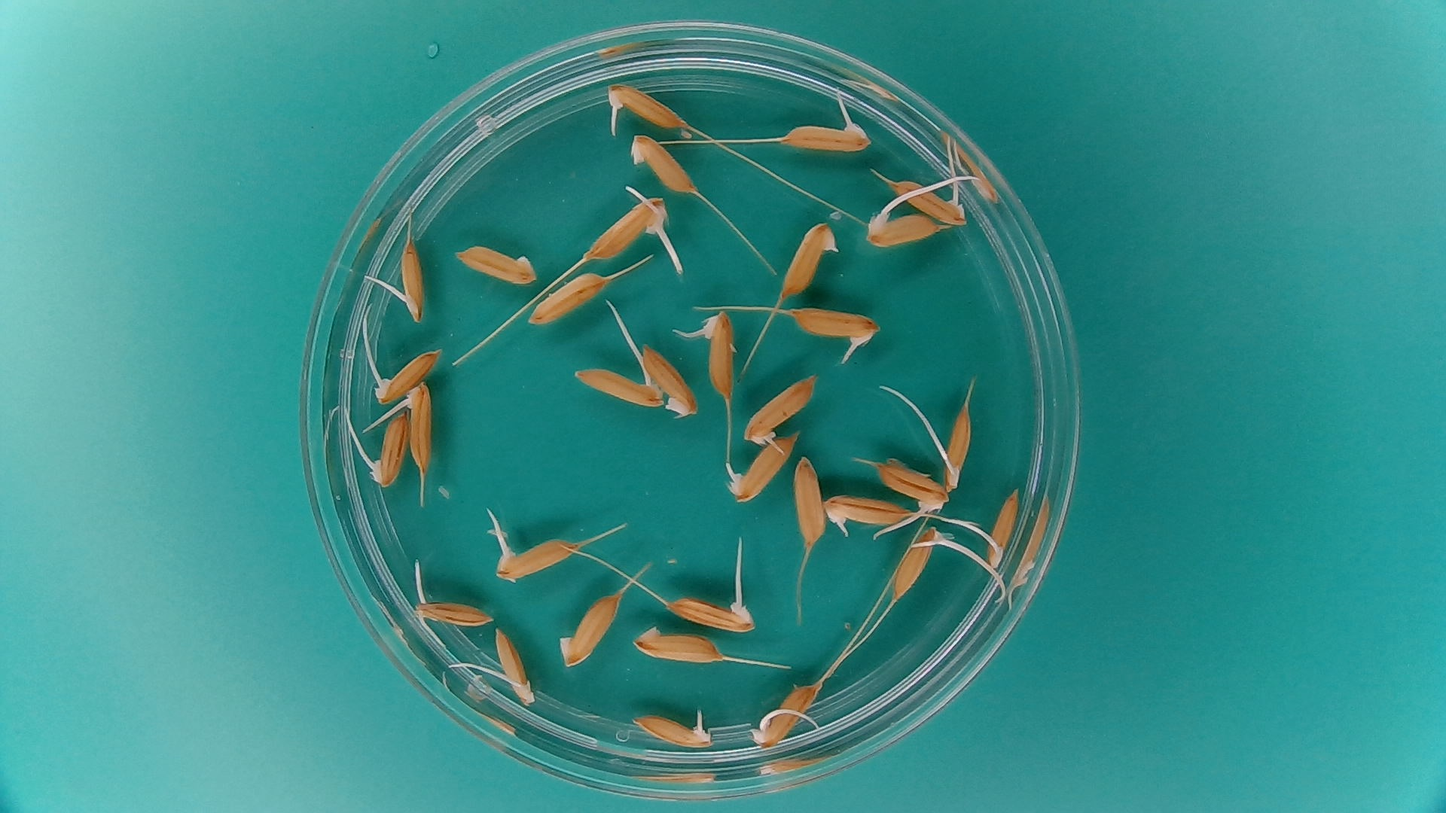no: (558, 588, 621, 669), (778, 218, 839, 299), (640, 341, 700, 419), (528, 270, 607, 327), (628, 132, 699, 194), (452, 241, 539, 287), (628, 624, 723, 665), (792, 455, 826, 551)
yes: (741, 370, 820, 447), (722, 429, 798, 504), (585, 197, 670, 259), (749, 683, 820, 749), (367, 346, 444, 405), (873, 456, 949, 514), (691, 305, 737, 400), (603, 81, 688, 132), (889, 525, 943, 601), (493, 536, 579, 583), (789, 303, 880, 346), (822, 492, 910, 534), (890, 181, 969, 227), (663, 593, 755, 632), (493, 624, 536, 707), (938, 397, 975, 492), (398, 380, 436, 472), (365, 412, 411, 488), (413, 586, 496, 628), (979, 486, 1020, 567), (630, 711, 715, 750), (394, 227, 428, 322), (574, 368, 660, 405), (863, 209, 940, 248), (780, 120, 868, 154)
